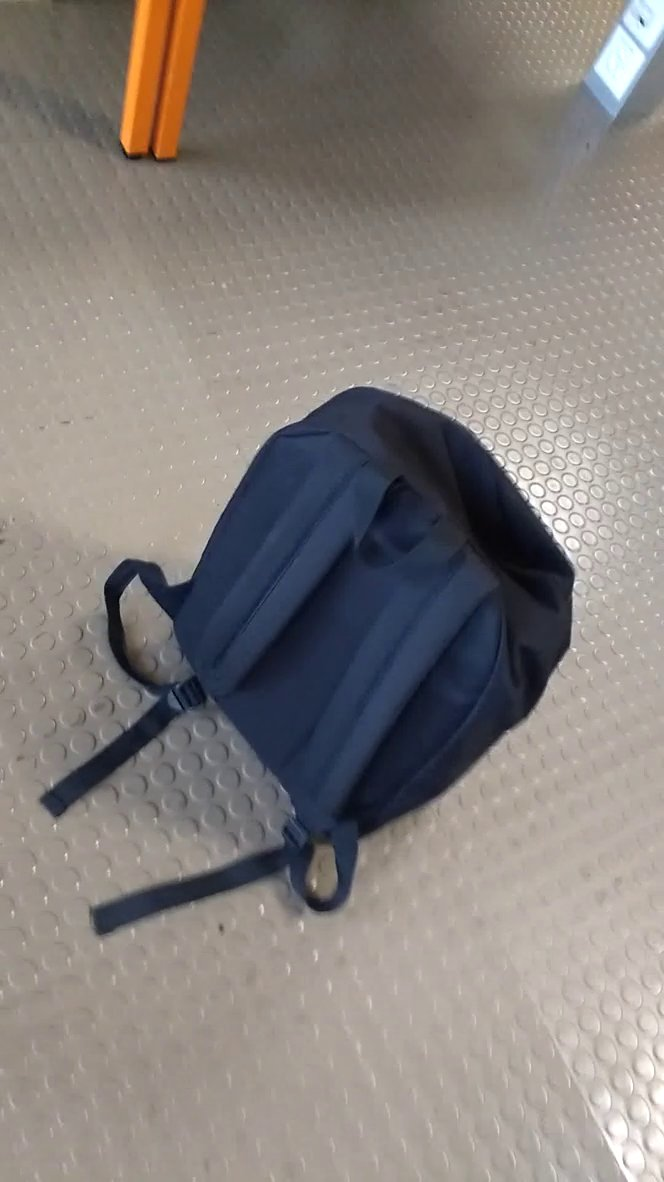bag: (35, 375, 582, 948)
